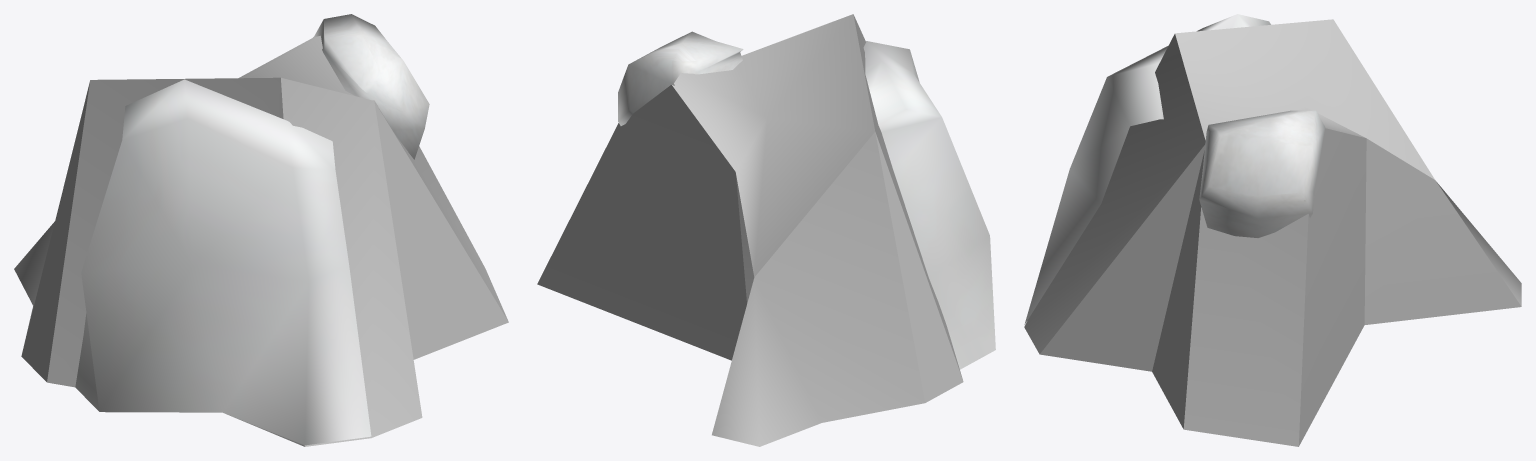
The model's file is SM_DeadTrunk_04.FBX.
The picture shows the model from 3 angles, left to right: view 1: azimuth 30°, elevation 25°; view 2: azimuth 150°, elevation 25°; view 3: azimuth 270°, elevation 25°; orthographic projection. The views are drawn at different scales.
Visible parts, largest first — view 1: SM_DeadTrunk_04; view 2: SM_DeadTrunk_04; view 3: SM_DeadTrunk_04.
Part boxes in pixels (x1,y1,x2,y2): SM_DeadTrunk_04: (14,14,508,446); SM_DeadTrunk_04: (537,14,995,446); SM_DeadTrunk_04: (1024,14,1521,446).
Size of the model in its own units: 236 by 154 by 241.
